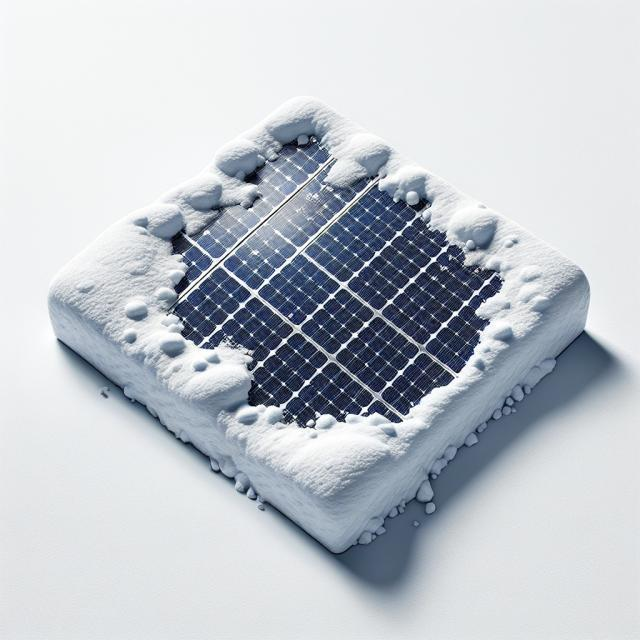Anomaly Solar Panel: (42, 19, 586, 542)
Snow: (40, 21, 585, 542)
